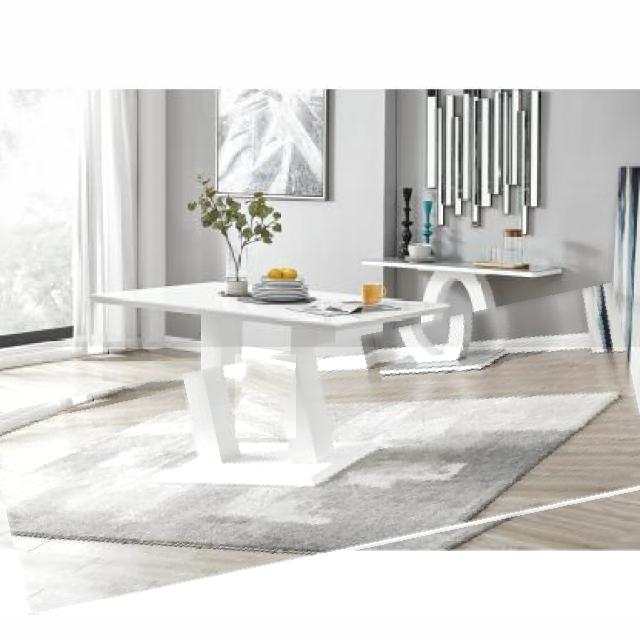floor: (0, 347, 640, 613), (236, 354, 296, 438)
